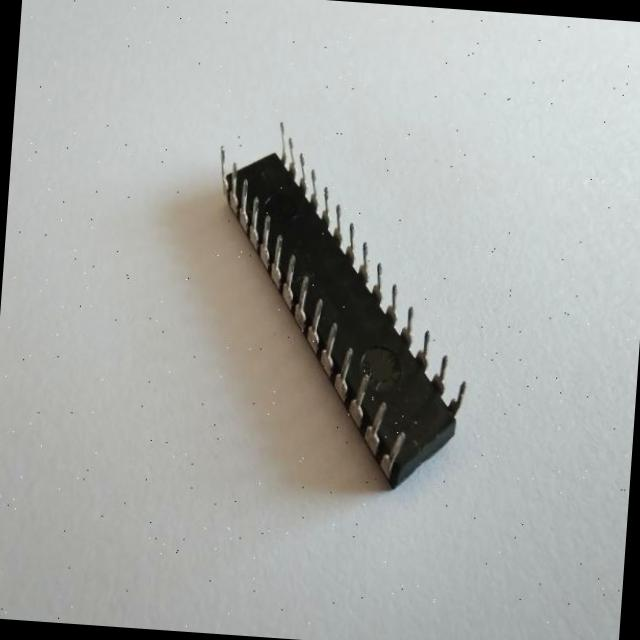atmega: (193, 116, 485, 496)
